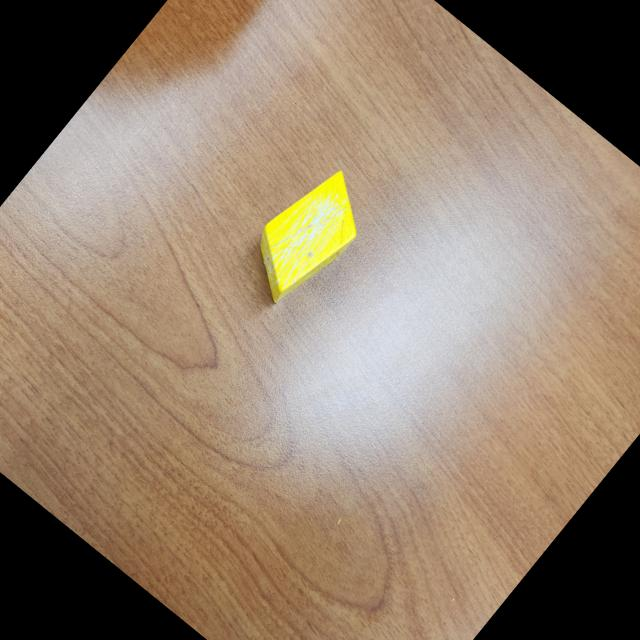broken: (229, 154, 384, 320)
